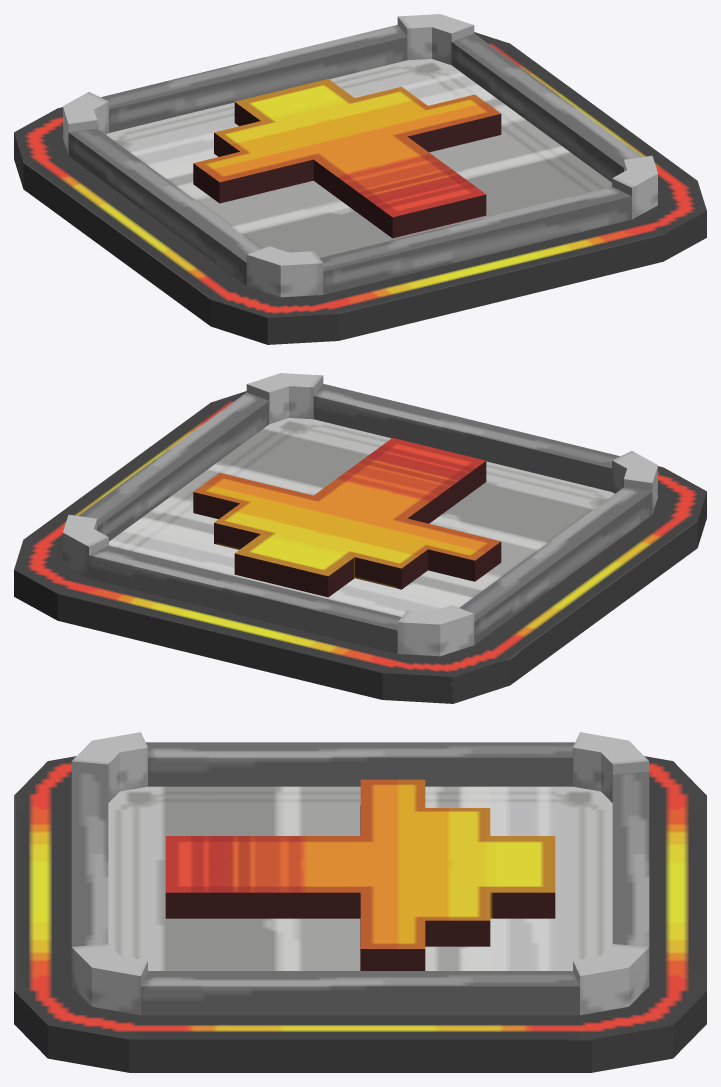
The model's file is JUMP PAD.fbx.
3 renders of one model, top to bottom at view 1: azimuth 30°, elevation 25°; view 2: azimuth 150°, elevation 25°; view 3: azimuth 270°, elevation 25°, orthographic. The views are drawn at different scales.
Parts seen in each view (by area): view 1: Cube; view 2: Cube; view 3: Cube.
Boxes of the visible parts, left/top/right/bottom form: Cube: left=14, top=14, right=706, bottom=344; Cube: left=14, top=373, right=706, bottom=703; Cube: left=14, top=732, right=706, bottom=1072.
Size of the model in its own units: 115 by 13.27 by 115.
Materials: 1 (1 with a texture image).
